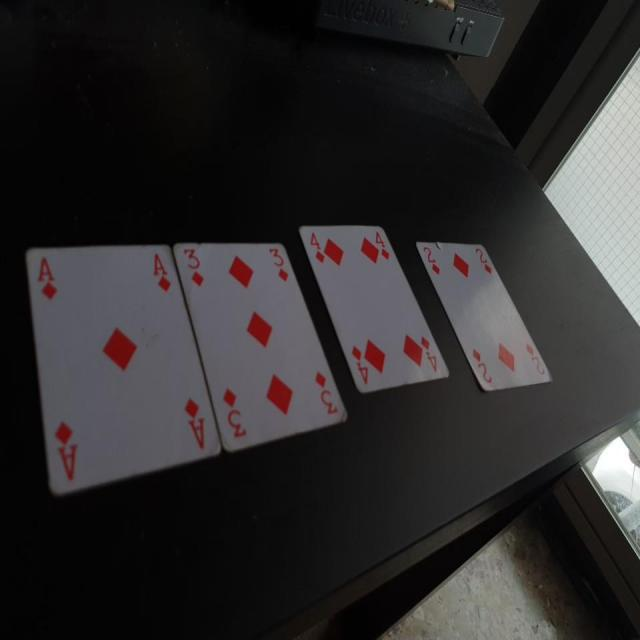2 Diamonds: (417, 235, 556, 396)
3 Diamonds: (170, 239, 348, 461)
4 Diamonds: (297, 217, 452, 399)
A Diamonds: (18, 225, 223, 502)
